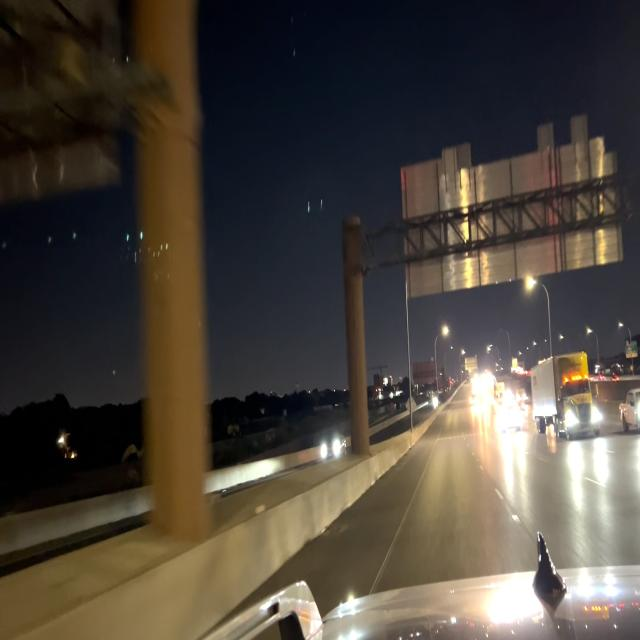back-of-sign: (399, 113, 623, 297)
